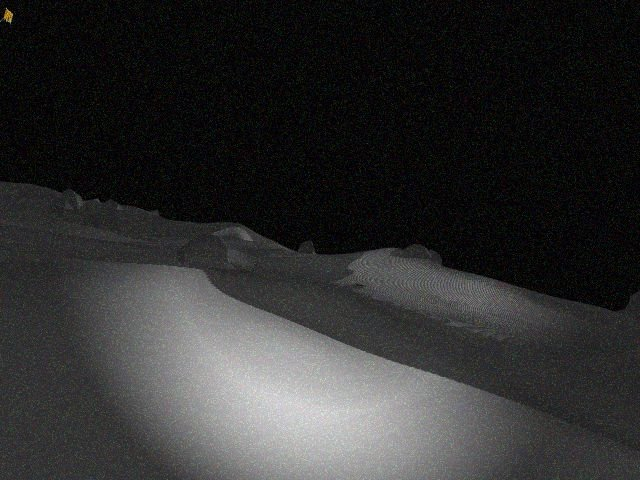cubesat: (1, 6, 14, 27)
